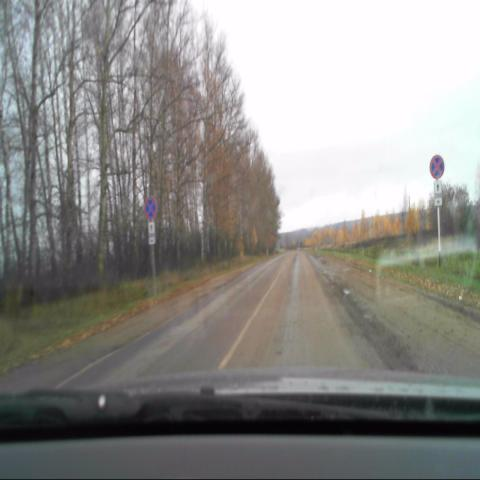8_2_2: (434, 180, 443, 207)
